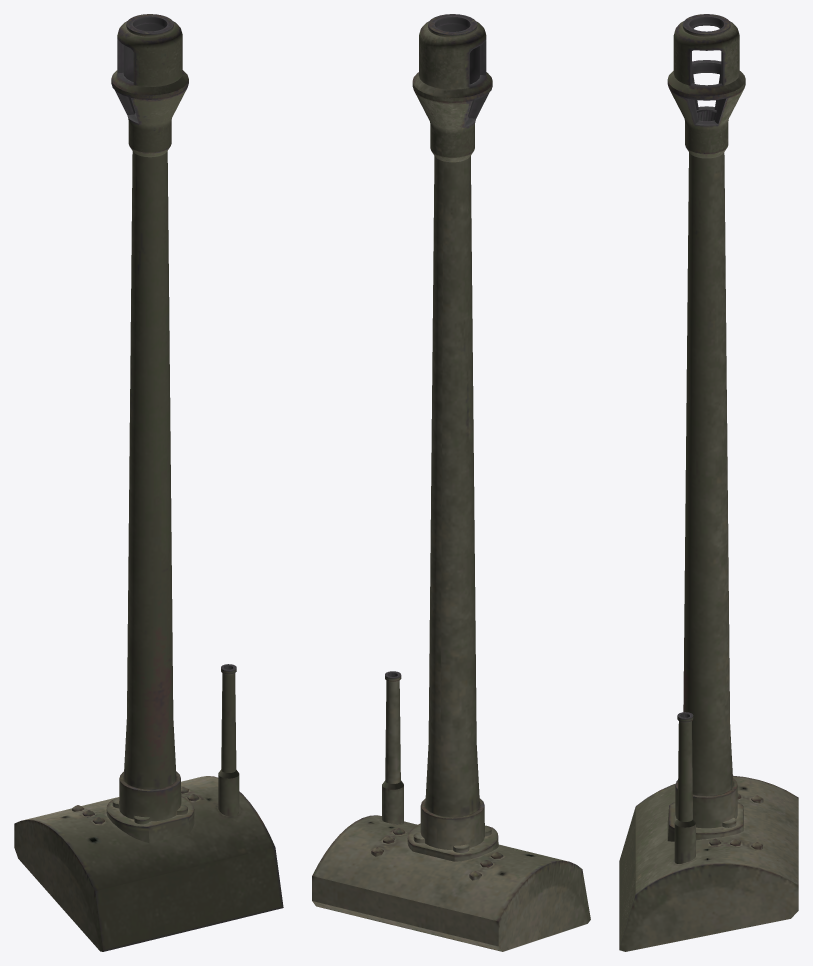
Rendered from Gun_03.glb.
3 views of the same model, side by side, from view 1: azimuth 30°, elevation 25°; view 2: azimuth 150°, elevation 25°; view 3: azimuth 270°, elevation 25° (orthographic). The views are drawn at different scales.
Parts seen in each view (by area): view 1: set_0_group_0; view 2: set_0_group_0; view 3: set_0_group_0.
Boxes of the visible parts, x1,y1,x2,y2 form: set_0_group_0: [14, 14, 283, 951]; set_0_group_0: [312, 14, 590, 951]; set_0_group_0: [619, 14, 798, 951].
Bounding box in the file's own units: 0.9947 × 4.62 × 0.8502.
1 material, 1 textured.
